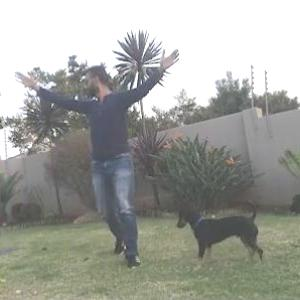takeoff: (8, 39, 188, 270)
